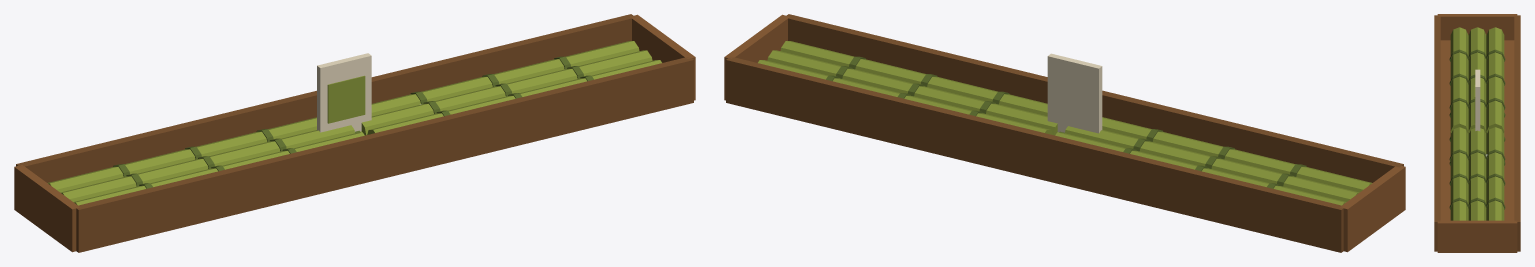
File: Crop_Sugarcane.fbx
3 views of the same model, side by side, from view 1: azimuth 30°, elevation 25°; view 2: azimuth 150°, elevation 25°; view 3: azimuth 270°, elevation 25° (orthographic). The views are drawn at different scales.
Visible parts, largest first — view 1: Crop_Sugarcane__Stack, Crop_Sugarcane__Seed; view 2: Crop_Sugarcane__Stack, Crop_Sugarcane__Seed; view 3: Crop_Sugarcane__Stack, Crop_Sugarcane__Seed.
Boxes of the visible parts, x1,y1,x2,y2 form: Crop_Sugarcane__Stack: [14, 14, 695, 252]; Crop_Sugarcane__Seed: [317, 53, 371, 132]; Crop_Sugarcane__Stack: [724, 14, 1405, 252]; Crop_Sugarcane__Seed: [1047, 53, 1102, 133]; Crop_Sugarcane__Stack: [1434, 14, 1520, 252]; Crop_Sugarcane__Seed: [1474, 69, 1480, 131].
Bounding box in the file's own units: 0.608 × 0.09 × 0.106.
